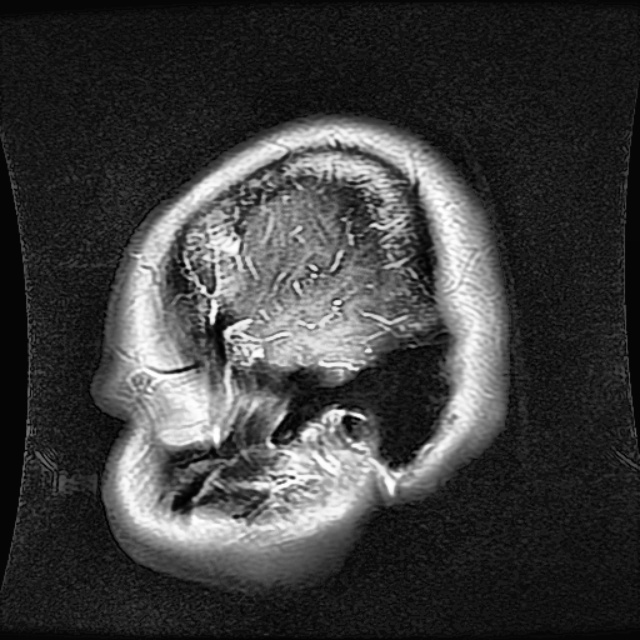Meningioma: (190, 225, 244, 292)
